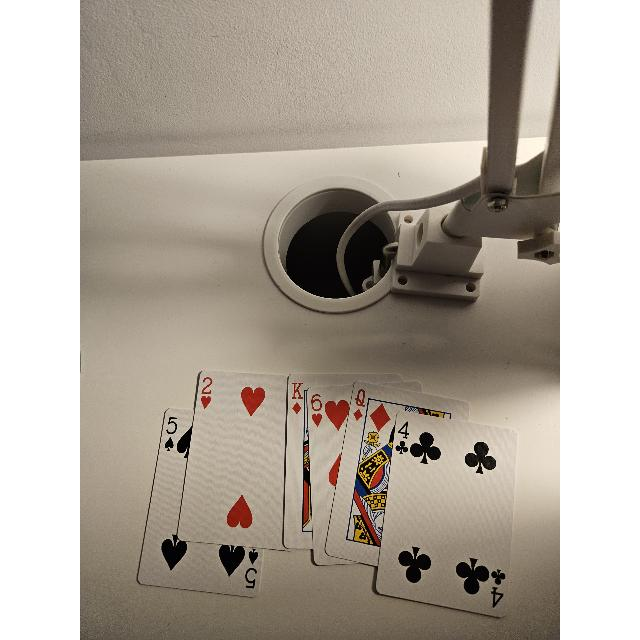2H: (202, 376, 214, 412)
4C: (490, 568, 506, 608), (398, 417, 410, 458)
5S: (244, 540, 262, 594), (165, 414, 179, 454)
6H: (311, 389, 325, 427)
KD: (288, 376, 306, 414)
QD: (354, 385, 366, 421)
